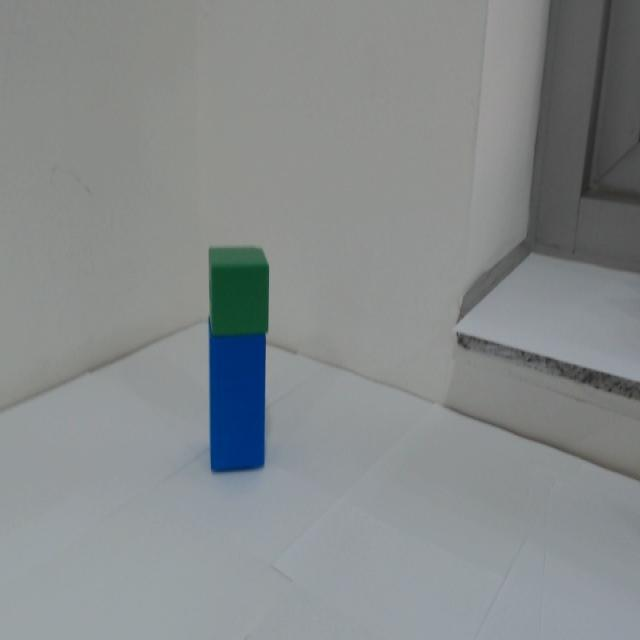cube: (199, 241, 274, 342)
